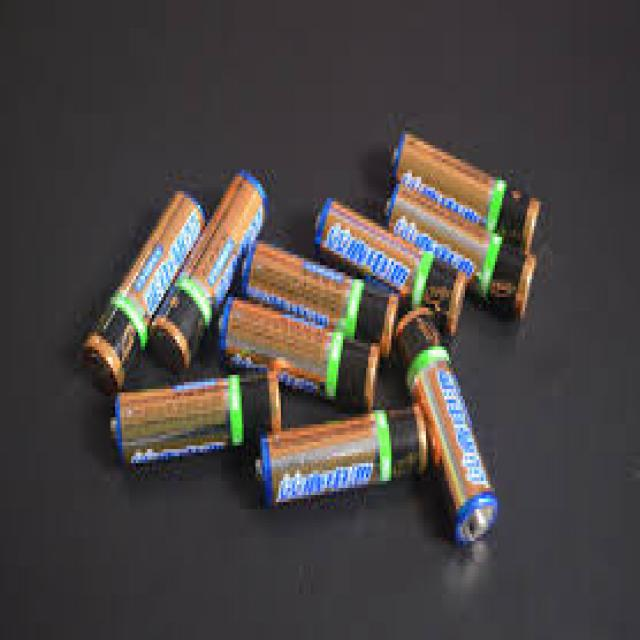non-organic waste: (141, 172, 271, 374), (79, 185, 203, 394), (395, 307, 496, 545), (313, 185, 467, 334), (383, 175, 536, 317), (391, 120, 544, 254), (217, 288, 380, 410), (235, 228, 398, 349), (253, 401, 428, 510), (105, 376, 245, 465)
